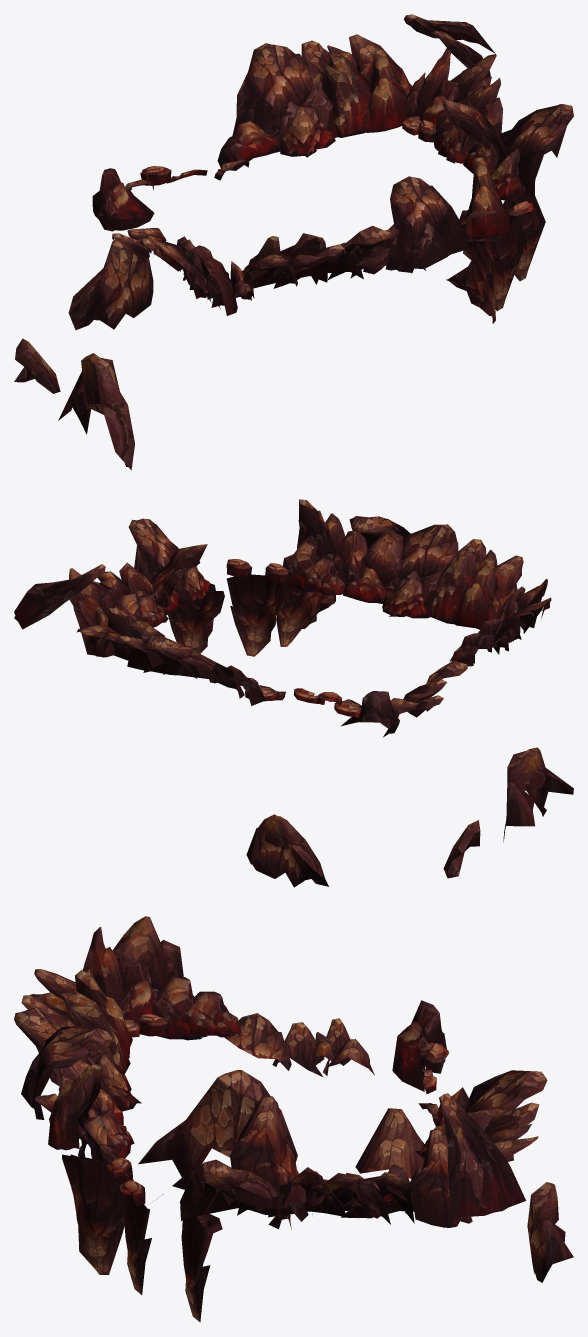
File: map001_03.FBX
3 renders of one model, top to bottom at view 1: azimuth 30°, elevation 25°; view 2: azimuth 150°, elevation 25°; view 3: azimuth 270°, elevation 25°, orthographic. The views are drawn at different scales.
Parts seen in each view (by area): view 1: map001_03; view 2: map001_03; view 3: map001_03.
Part boxes in pixels (<box>): map001_03: <box>14,14,573,470</box>; map001_03: <box>14,499,573,887</box>; map001_03: <box>14,916,573,1322</box>.
Bounding box in the file's own units: 3854 × 2014 × 3110.
Materials: 1 (1 with a texture image).
